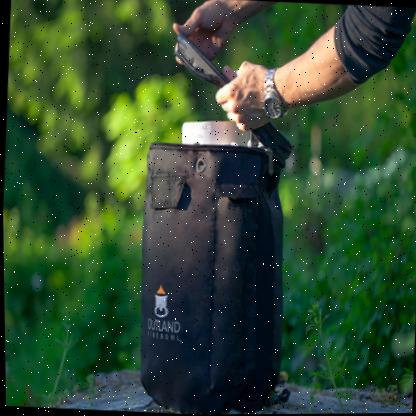gas-tank: (147, 78, 281, 161)
